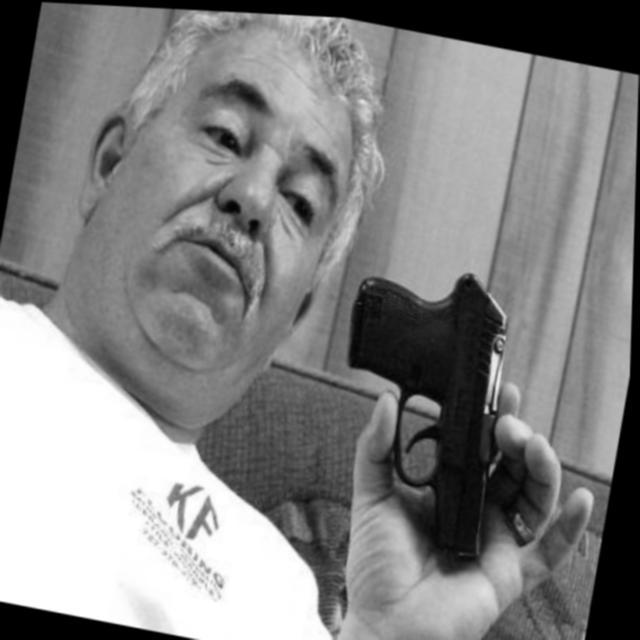weapon: (306, 227, 547, 572)
